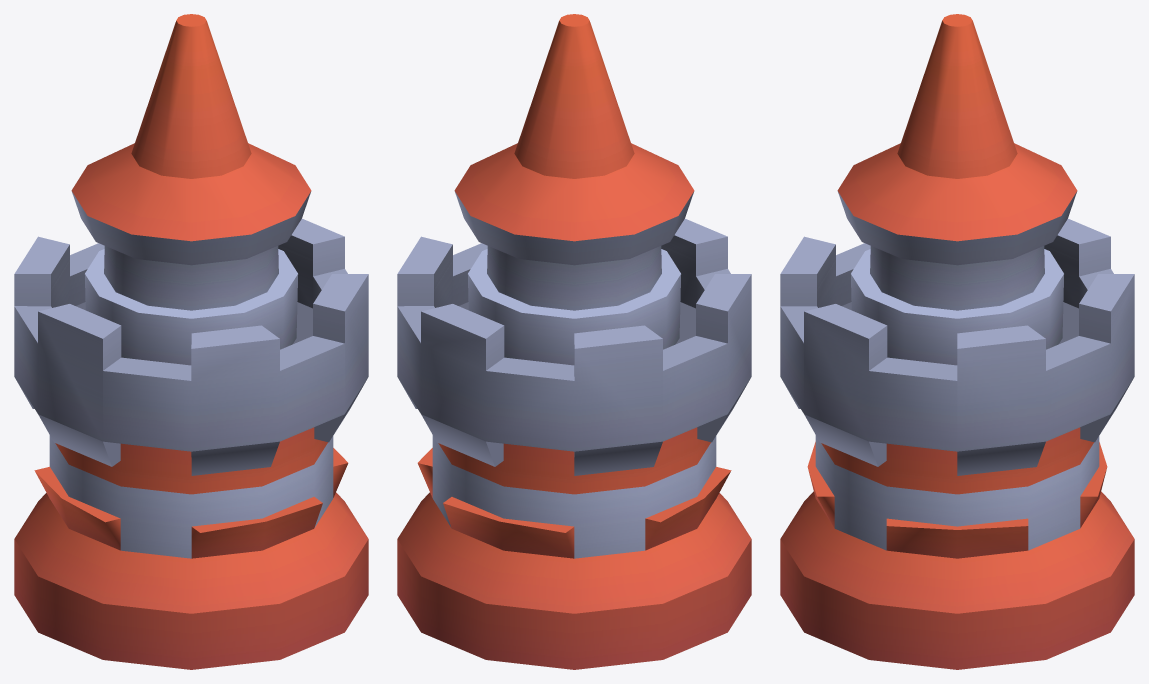
The model's file is kenney-tower-defense-tower-round-build-f.glb.
3 views of the same model, side by side, from view 1: azimuth 30°, elevation 25°; view 2: azimuth 150°, elevation 25°; view 3: azimuth 270°, elevation 25° (orthographic).
Visible parts, largest first — view 1: tower-round-build-f; view 2: tower-round-build-f; view 3: tower-round-build-f.
Boxes of the visible parts, box(x1,y1,x2,y2) form: tower-round-build-f: box(14, 14, 368, 669); tower-round-build-f: box(397, 14, 751, 669); tower-round-build-f: box(780, 14, 1134, 669).
Size of the model in its own units: 1 by 1.79 by 1.
Materials: 1 (1 with a texture image).
